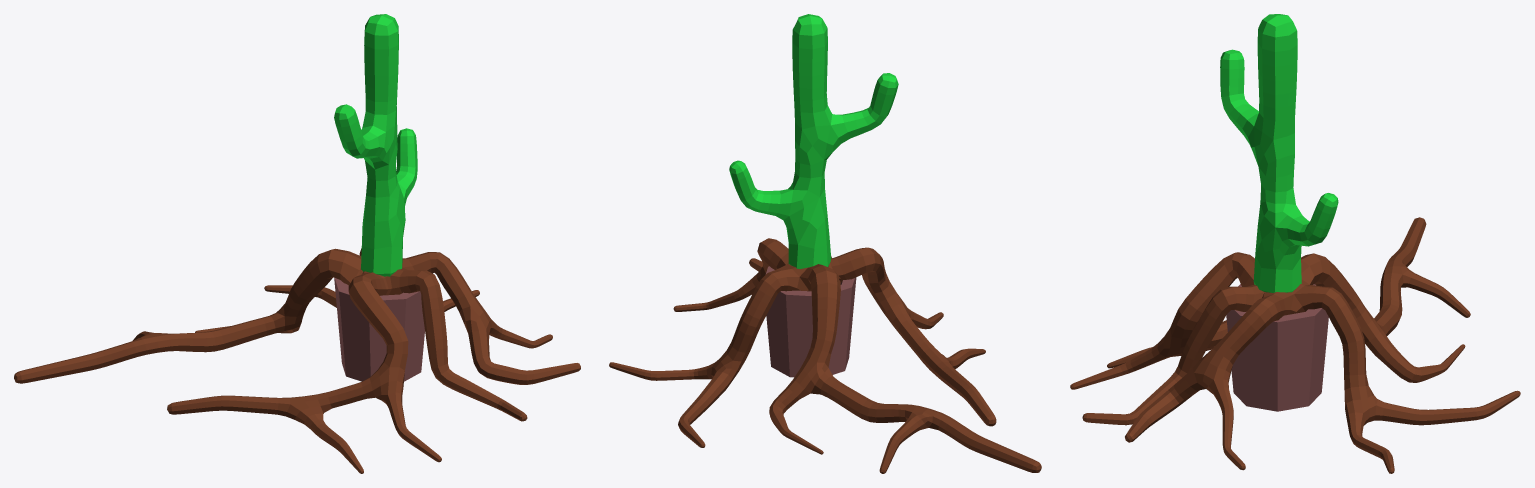
Rendered from Cactus.glb.
3 renders of one model, left to right at view 1: azimuth 30°, elevation 25°; view 2: azimuth 150°, elevation 25°; view 3: azimuth 270°, elevation 25°, orthographic. The views are drawn at different scales.
Parts seen in each view (by area): view 1: Cactus-col; view 2: Cactus-col; view 3: Cactus-col.
Part boxes in pixels (<box>): Cactus-col: <box>14,14,580,473</box>; Cactus-col: <box>609,14,1041,473</box>; Cactus-col: <box>1070,14,1520,473</box>.
Size of the model in its own units: 7.68 by 6.07 by 6.14.
Materials: 1 (1 with a texture image).
